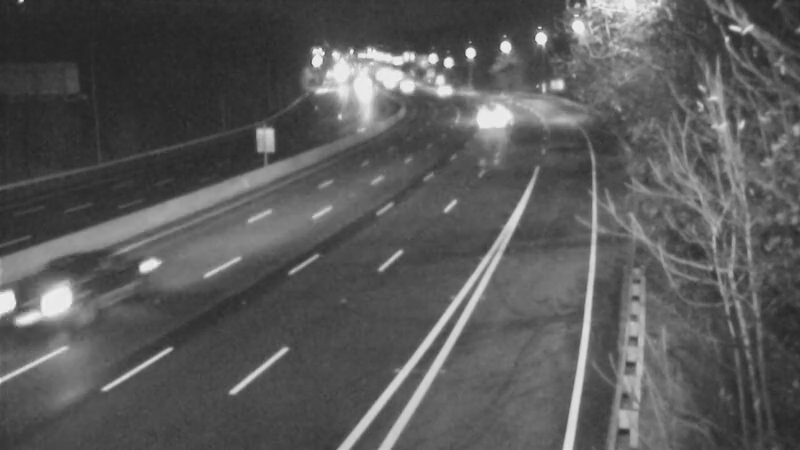vehicle: (42, 239, 122, 319), (380, 63, 430, 113), (416, 63, 466, 113), (464, 92, 514, 142), (339, 66, 389, 116)
